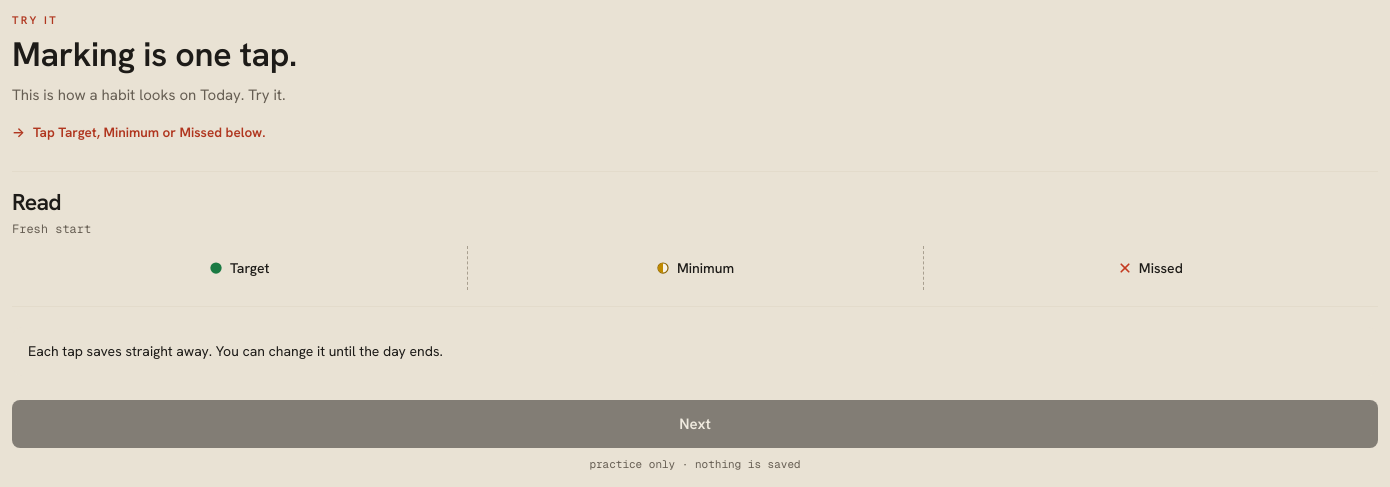
PracticeStep › enables Next after a mark, stamps the row, and saves nothing
Expected: the button "Next" is disabled, top-left (12, 400), bottom-right (1378, 448)
Click the button "Target" at (240, 268), box top-left (12, 246), bottom-right (467, 290)
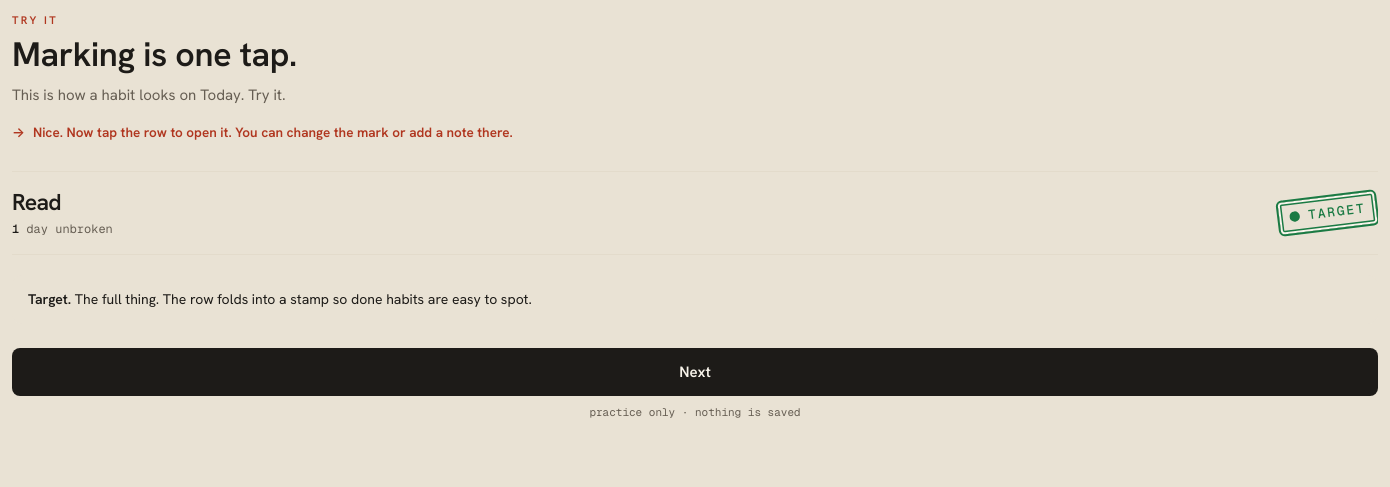
Expected: the button "Next" is enabled, top-left (12, 348), bottom-right (1378, 396)
Expected: the message shows "tap the row to open it", top-left (33, 123), bottom-right (513, 141)
